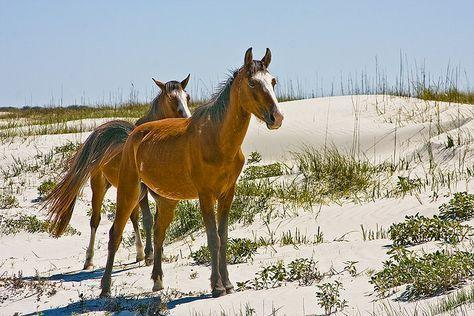horse: (98, 46, 283, 298), (37, 72, 192, 272)
